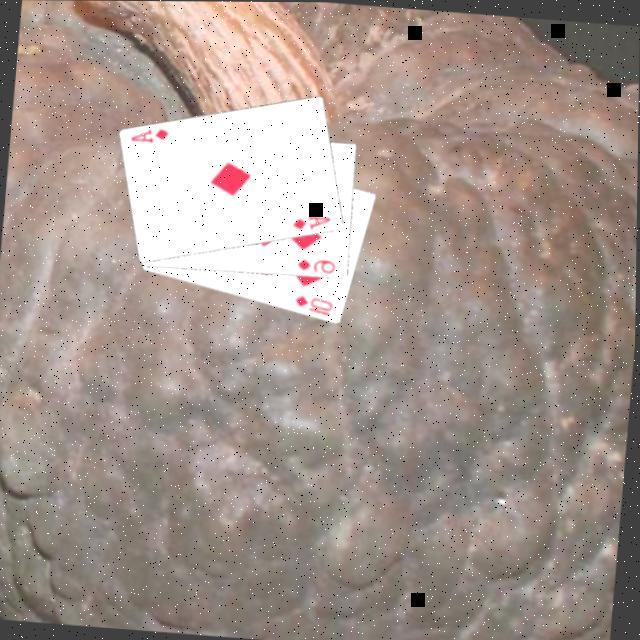10D: (293, 290, 339, 317)
9D: (295, 254, 341, 275)
AD: (292, 208, 336, 233), (129, 122, 173, 147)
